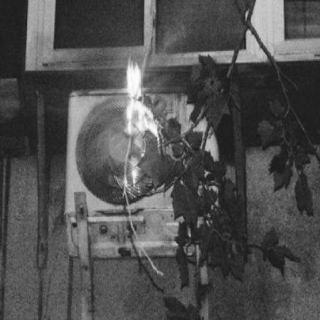Fire: (104, 51, 164, 191)
